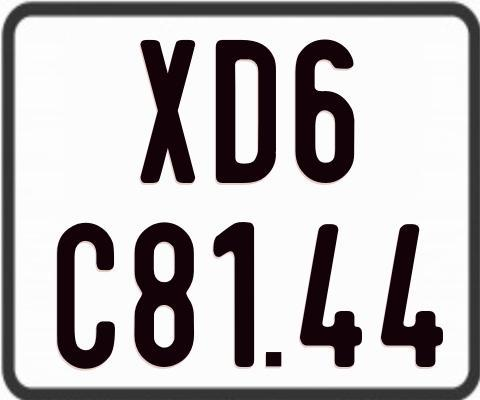1: (210, 222, 252, 371)
4: (299, 222, 365, 370), (381, 221, 443, 369)
6: (295, 37, 354, 186)
8: (131, 221, 193, 371)
C: (57, 221, 121, 368)
D: (213, 38, 279, 184)
X: (140, 37, 196, 182)
